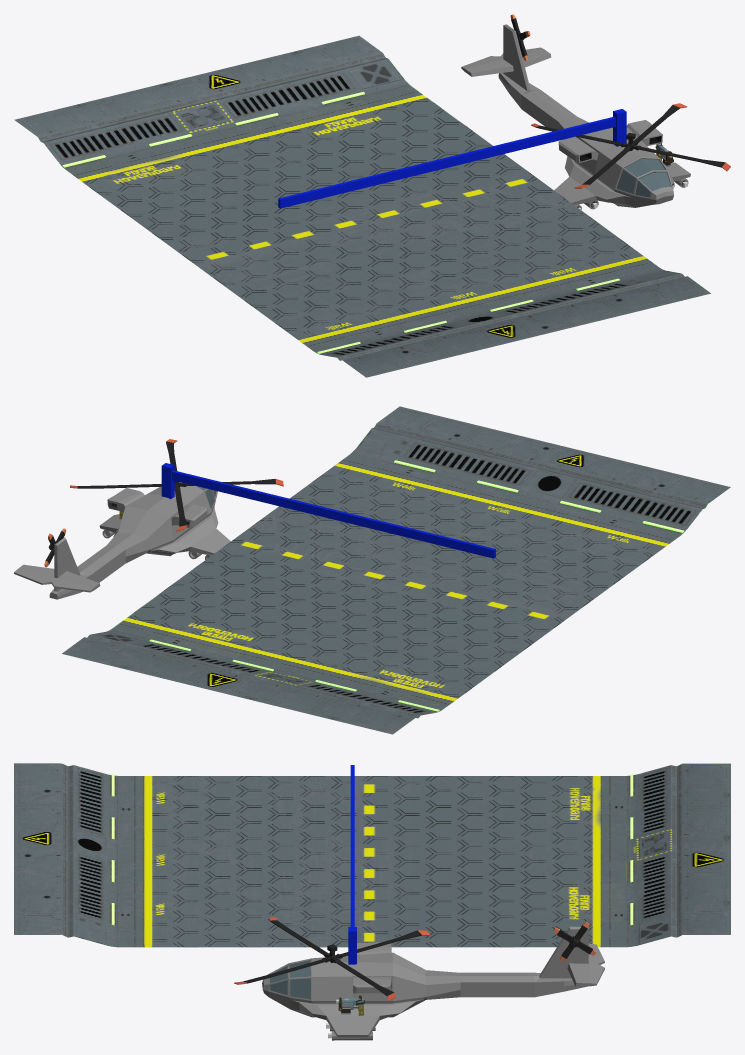
The model's file is models-8f04ab13.glb.
The picture shows the model from 3 angles, top to bottom: view 1: azimuth 30°, elevation 25°; view 2: azimuth 150°, elevation 25°; view 3: azimuth 270°, elevation 25°; orthographic projection. The views are drawn at different scales.
Visible parts, largest first — view 1: Road, helicopter_body, barrier, MainRotor_2; view 2: Road, helicopter_body, barrier, MainRotor_2; view 3: Road, helicopter_body, MainRotor_2, barrier, TailRotor_1.
Boxes of the visible parts, x1,y1,x2,y2 form: Road: [14, 35, 711, 377]; helicopter_body: [461, 24, 690, 209]; barrier: [278, 109, 626, 208]; MainRotor_2: [536, 105, 725, 184]; Road: [62, 406, 730, 734]; helicopter_body: [14, 482, 230, 599]; barrier: [161, 463, 495, 558]; MainRotor_2: [77, 441, 275, 526]; Road: [14, 763, 730, 947]; helicopter_body: [262, 926, 604, 1040]; MainRotor_2: [243, 920, 421, 996]; barrier: [348, 765, 356, 964]; TailRotor_1: [234, 917, 596, 1001].
Size of the model in its own units: 14.63 by 2.58 by 17.67.
7 materials, 2 textured.
